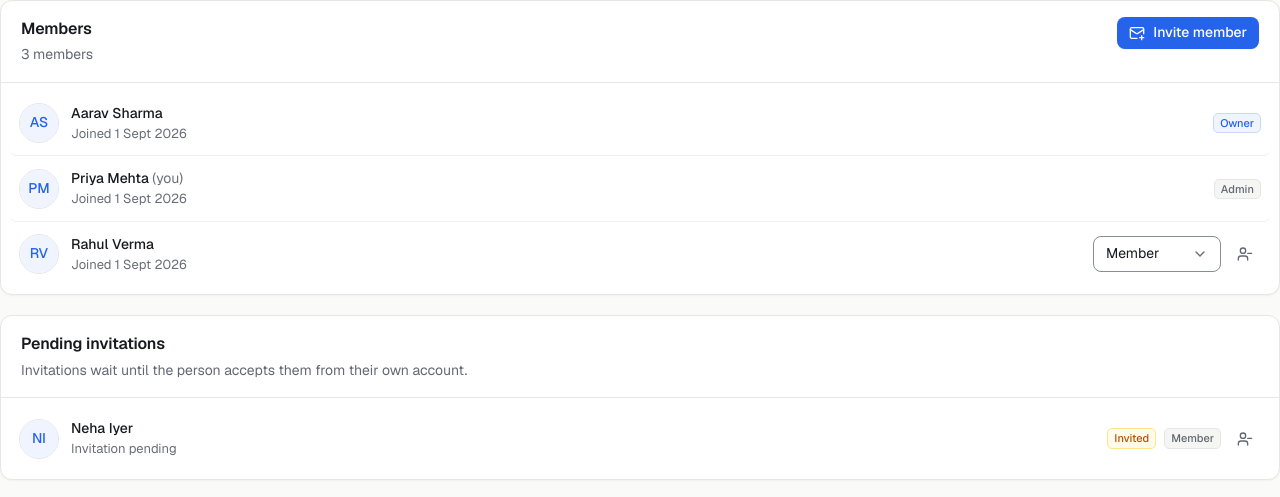
Test case: TeamManager › gives an admin no controls over an owner, and no owner role to grant
Click the dropdown named "Role for Rahul Verma" at (1157, 254), box [1093,236,1221,272]
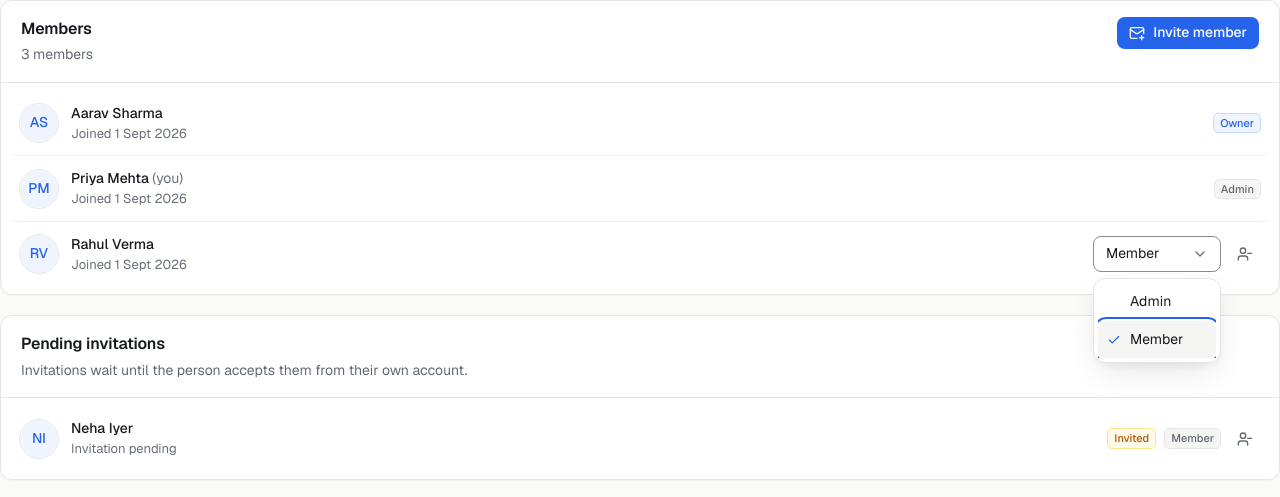
Expected: the options read "Admin", "Member", in this order, [1130,292,1171,310]; [1098,321,1216,358]
